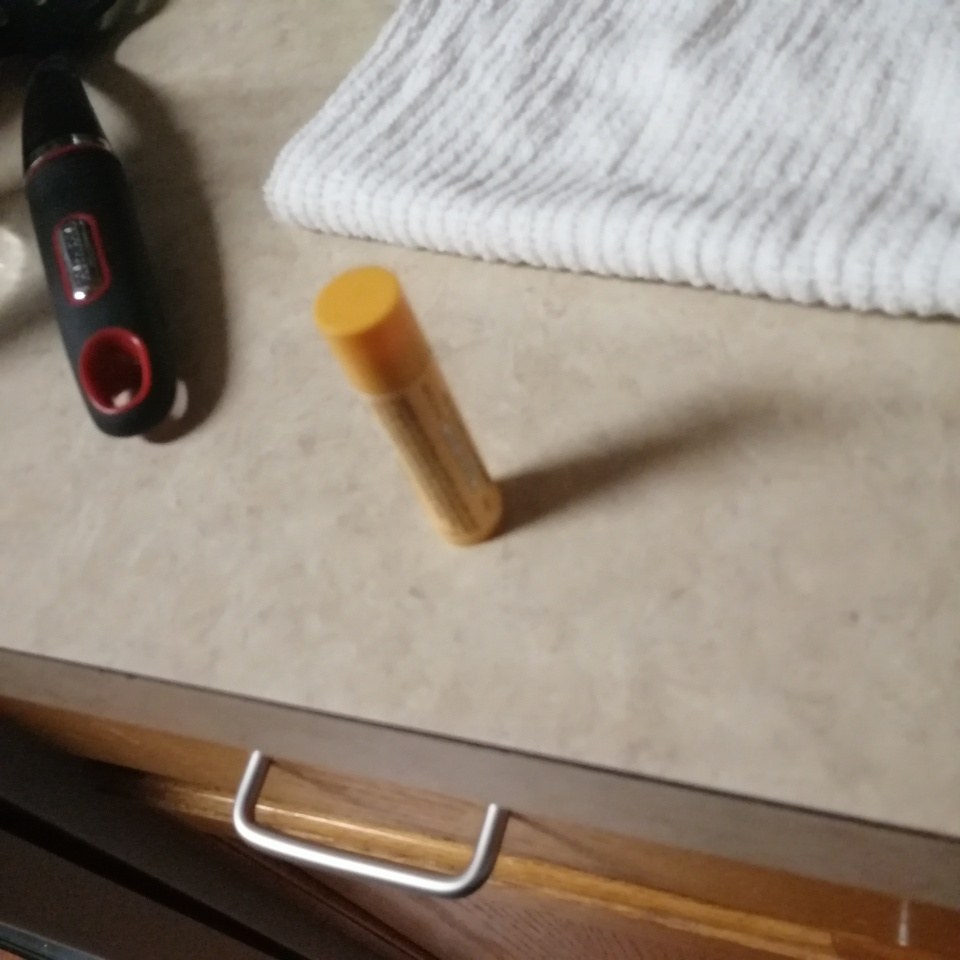chapstick: (313, 263, 507, 549)
